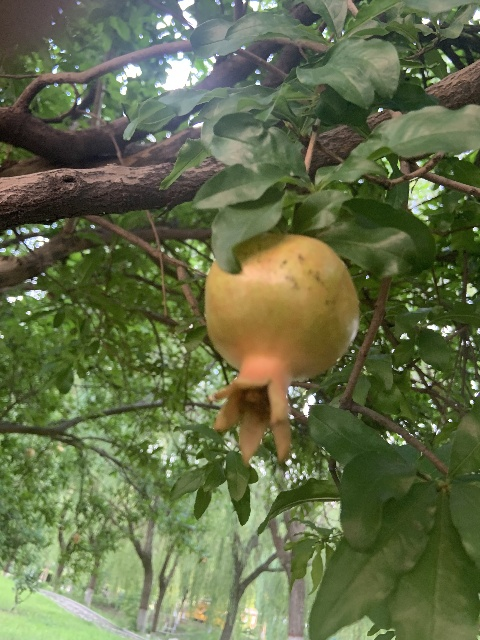mid-growth: (203, 233, 358, 465)
